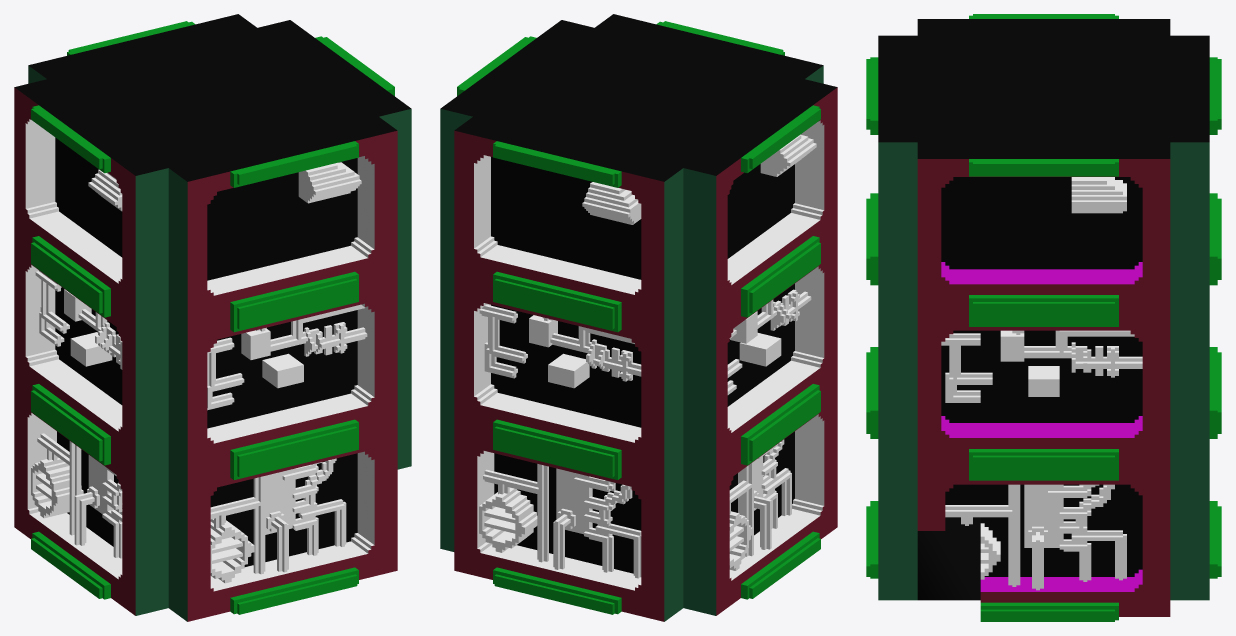
The model's file is tekwal_c4d_uv_blocky.fbx.
3 renders of one model, left to right at view 1: azimuth 30°, elevation 25°; view 2: azimuth 150°, elevation 25°; view 3: azimuth 270°, elevation 25°, orthographic. The views are drawn at different scales.
Parts seen in each view (by area): view 1: WALTEK04.1 (×15); view 2: WALTEK04.1 (×15); view 3: WALTEK04.1 (×15).
Part boxes in pixels (x1,y1,x2,y2): WALTEK04.1 (×15): (14, 14, 411, 621); WALTEK04.1 (×15): (440, 14, 837, 621); WALTEK04.1 (×15): (866, 14, 1221, 621).
Bounding box in the file's own units: 180 × 256 × 180.
